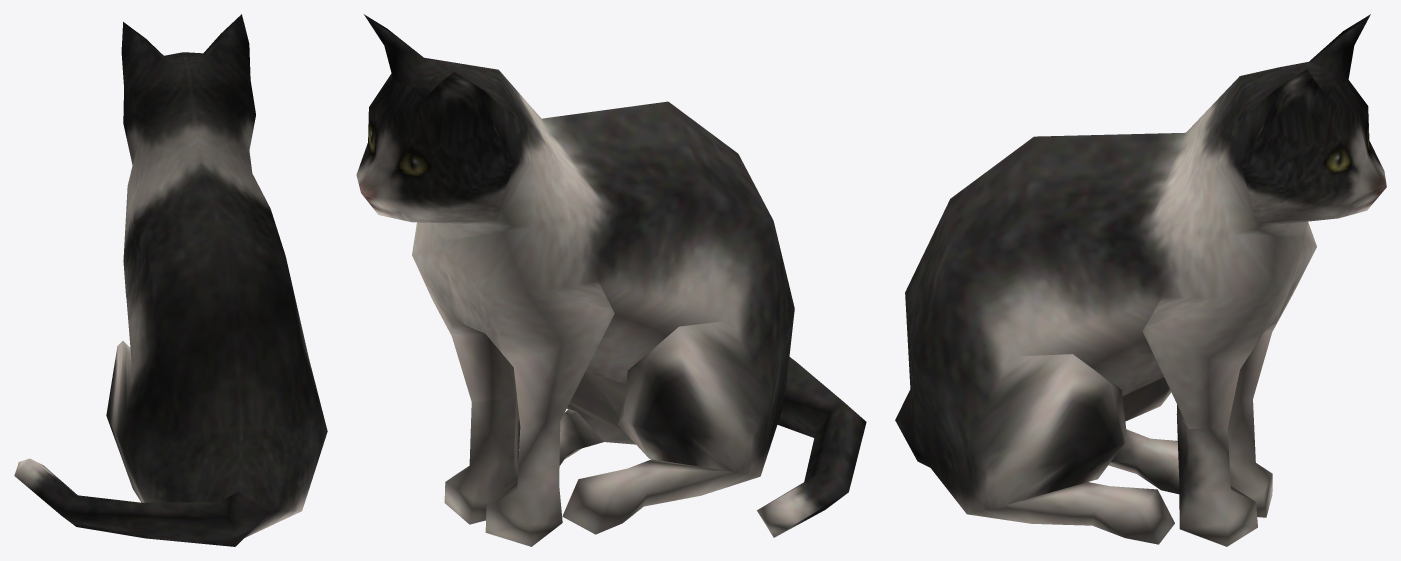
The model's file is samurai.ico.obj.
3 renders of one model, left to right at view 1: azimuth 30°, elevation 25°; view 2: azimuth 150°, elevation 25°; view 3: azimuth 270°, elevation 25°, orthographic. The views are drawn at different scales.
Bounding box in the file's own units: 3.44 × 4.56 × 4.09.
1 material, 1 textured.
